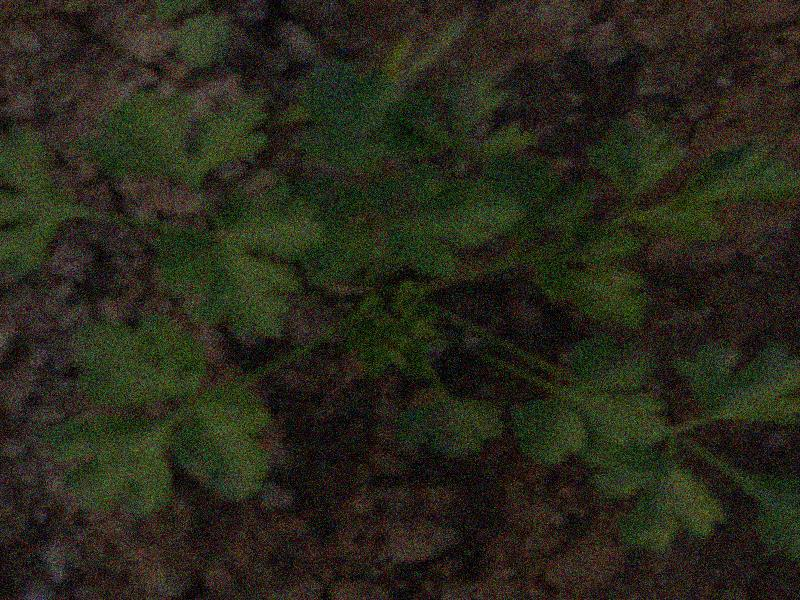radish: (0, 57, 800, 563)
